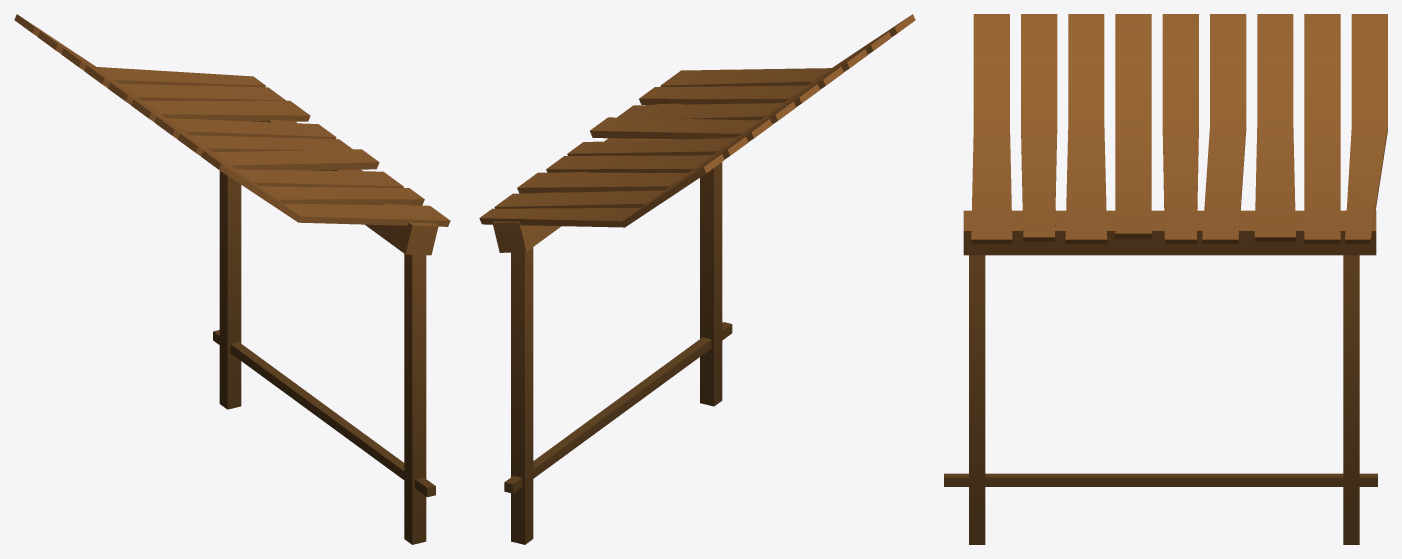
File: ASmallRoof.fbx
The picture shows the model from 3 angles, left to right: view 1: azimuth 30°, elevation 25°; view 2: azimuth 150°, elevation 25°; view 3: azimuth 270°, elevation 25°; orthographic projection. The views are drawn at different scales.
Visible parts, largest first — view 1: pCube82; view 2: pCube82; view 3: pCube82.
Part boxes in pixels (bbox=[...]): pCube82: bbox=[14, 14, 450, 544]; pCube82: bbox=[479, 14, 915, 544]; pCube82: bbox=[944, 14, 1387, 544].
Bounding box in the file's own units: 1.93 × 3.4 × 3.18.
1 material, 1 textured.
